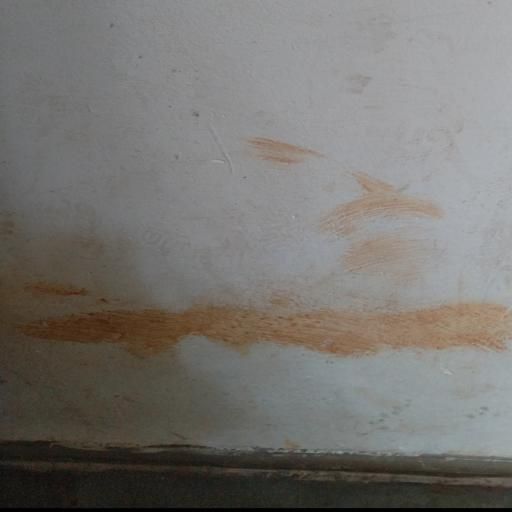stain: (0, 104, 512, 400)
